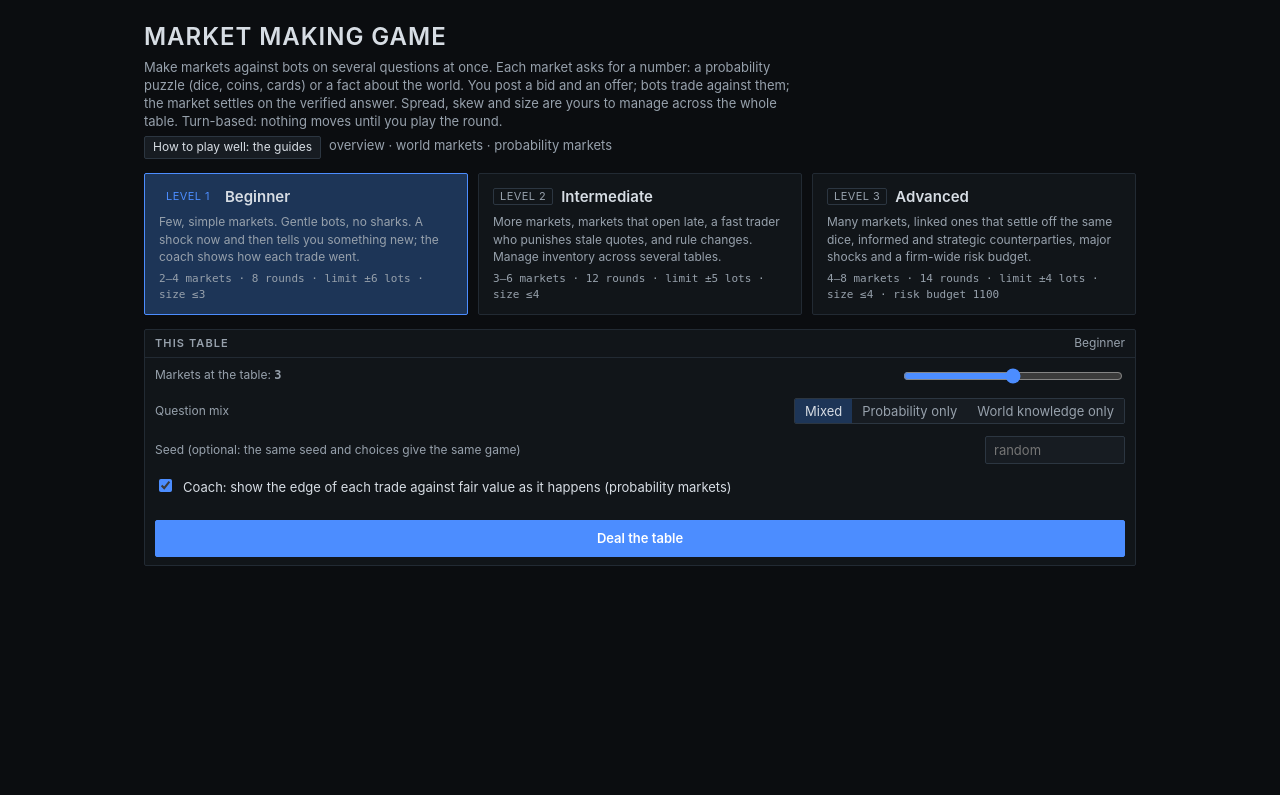
Test case: the layout adapts to the table › many live markets get a dense grid with every quote control still there
expect the heading "MARKET MAKING GAME" is shown: met, box [144, 22, 447, 51]
Click the button "Deal the table" at (640, 539), box [155, 520, 1125, 557]
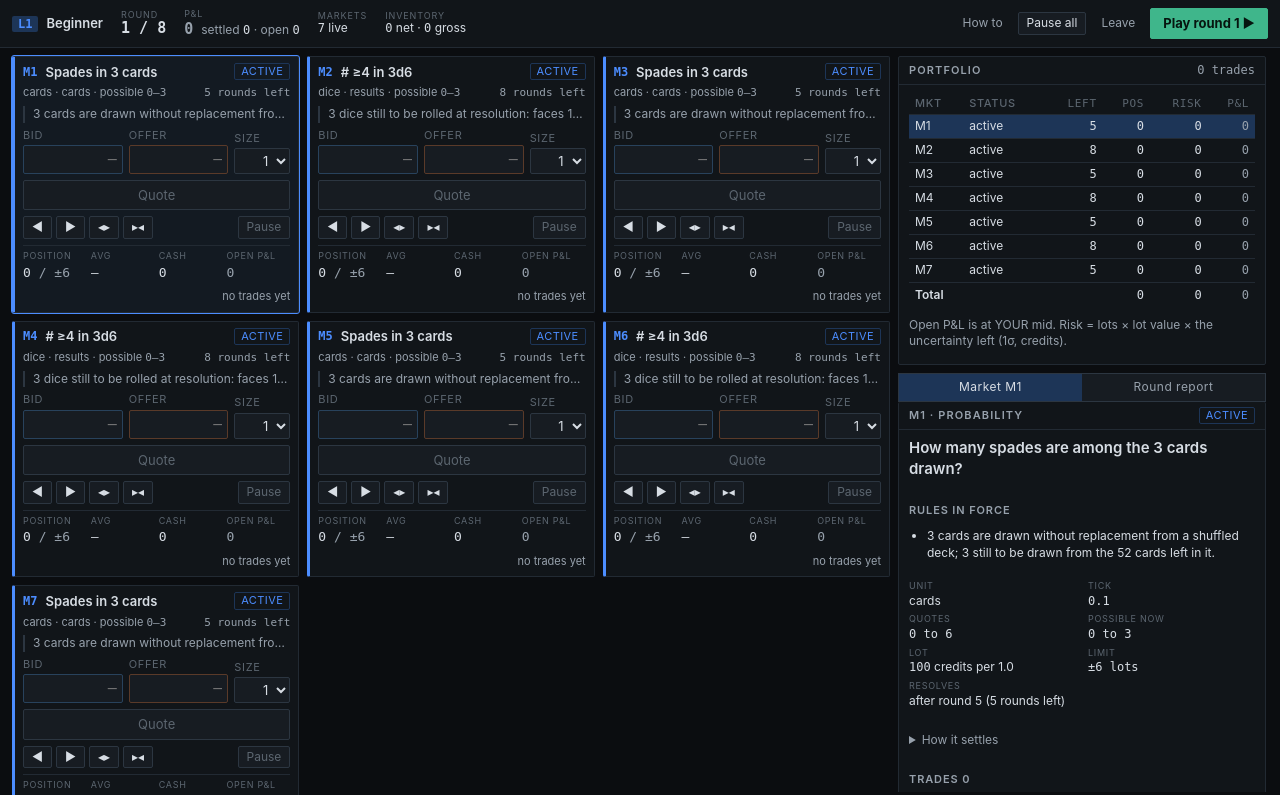
expect the field named "M1 bid" is enabled: met, box [23, 145, 123, 174]
expect the button named "M2 widen" is shown: met, box [384, 216, 414, 239]
expect the element that starts with "PORTFOLIO" is shown: met, box [898, 56, 1268, 792]
